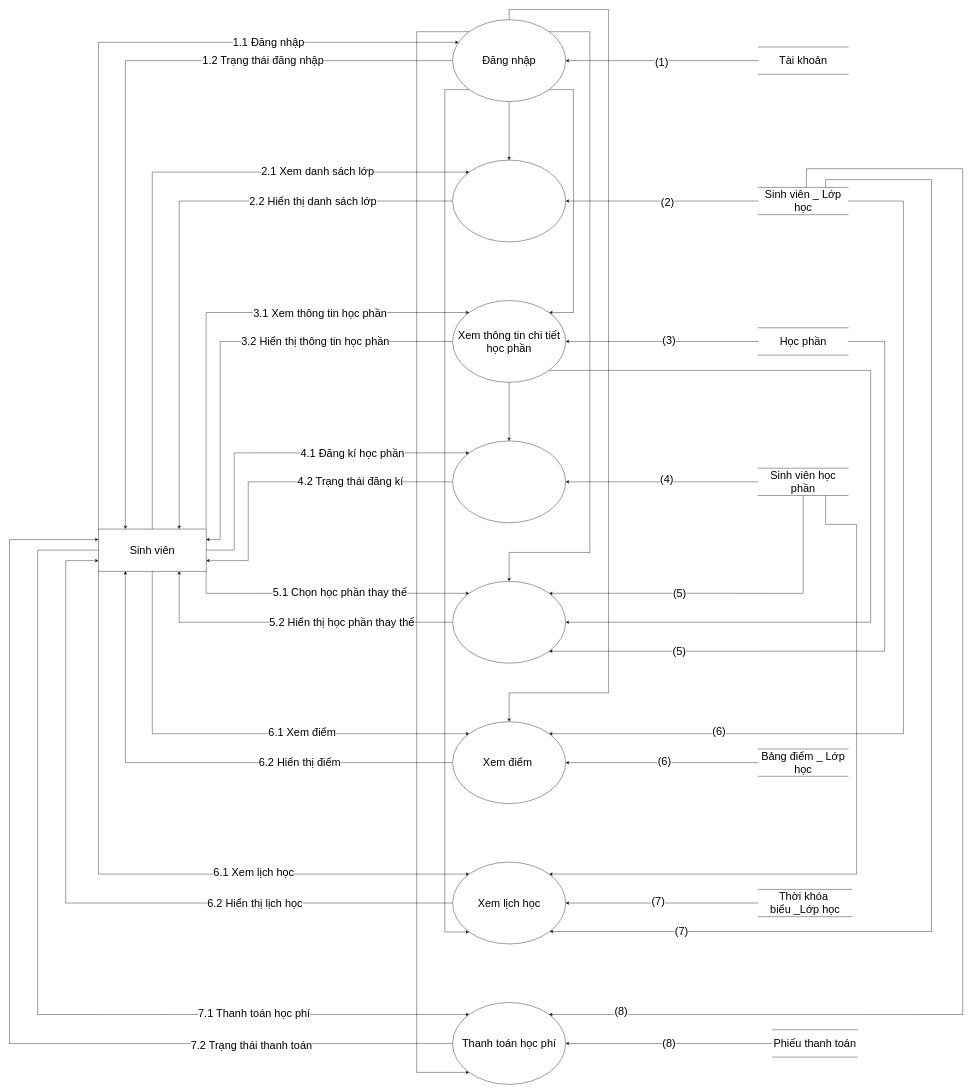
Some shapes in this 973 by 1091 pixel diagram are drawn without their labels. Each missing label, with the box of its shape:
Chọn học phần thay thế: (452, 581, 566, 663)
Xem danh sách lớp: (452, 160, 566, 242)
Đăng kí học phần: (452, 441, 566, 523)
